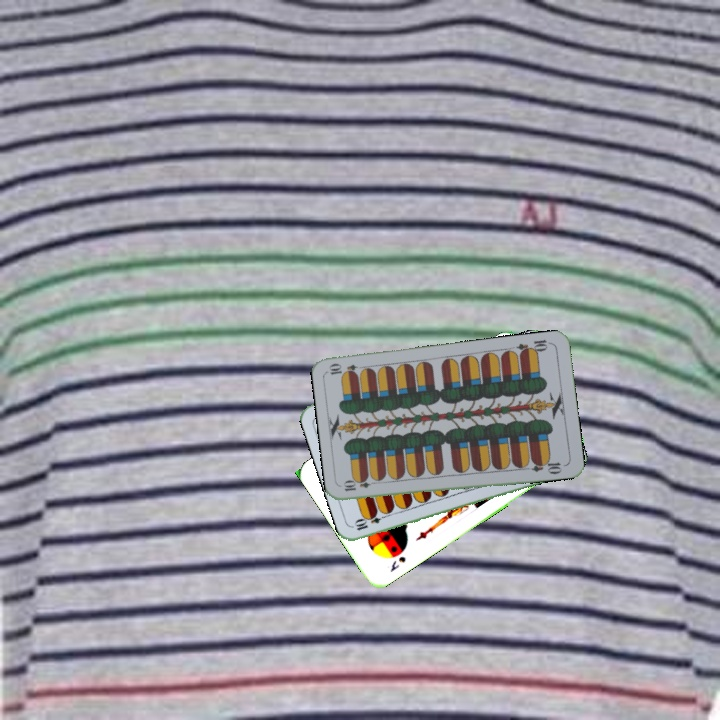E10: (351, 509, 391, 533), (513, 336, 554, 358), (339, 476, 380, 494)
SK: (386, 552, 408, 575)
